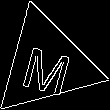M_N: (18, 33, 75, 94)
